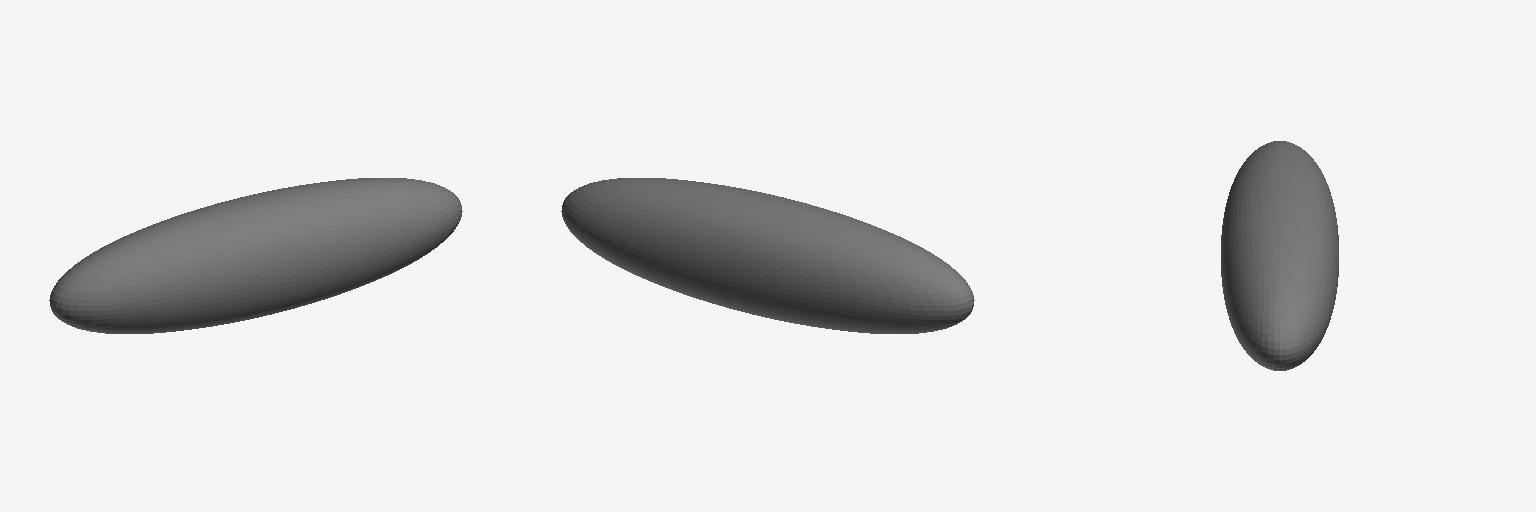
The model's file is cloud.obj.
3 renders of one model, left to right at view 1: azimuth 30°, elevation 25°; view 2: azimuth 150°, elevation 25°; view 3: azimuth 270°, elevation 25°, orthographic.
Visible parts, largest first — view 1: pCube1; view 2: pCube1; view 3: pCube1.
Boxes of the visible parts, x1,y1,x2,y2 form: pCube1: [49, 178, 462, 333]; pCube1: [561, 178, 974, 333]; pCube1: [1221, 141, 1338, 370].
Bounding box in the file's own units: 112 × 28.36 × 28.36.